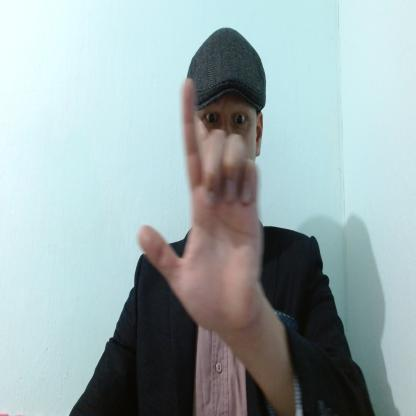L: (138, 76, 261, 334)
